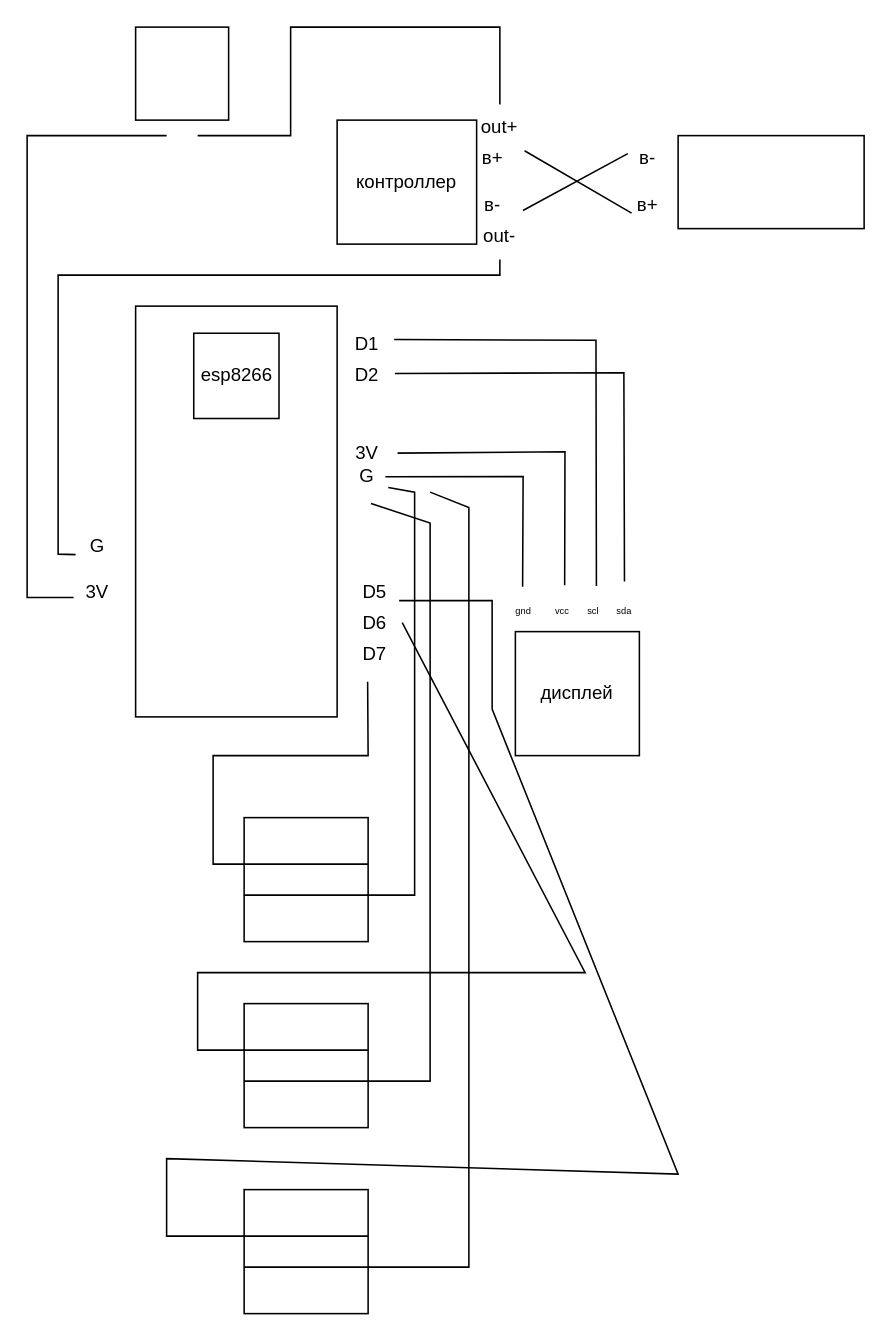
Image size: 891x1341. Some labels were removed from this diagram. The box of each missing label's shape, as (x1, y1, x2, y2) in pixels:
3.7В 900мАч: (677, 134, 864, 229)
тумблер: (134, 26, 229, 120)
